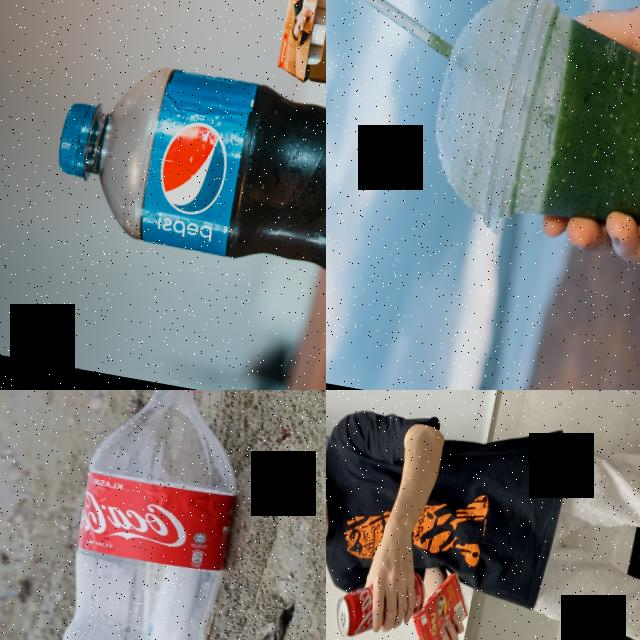bottle: (43, 46, 326, 287)
can: (330, 555, 429, 640)
cup: (414, 0, 640, 271)
